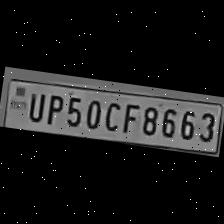0: (81, 96, 104, 131)
3: (194, 107, 218, 143)
5: (60, 92, 86, 129)
6: (174, 106, 198, 142), (157, 104, 179, 140)
8: (137, 102, 162, 138)
C: (100, 97, 124, 133)
F: (118, 100, 141, 136)
P: (42, 90, 66, 128)
U: (24, 88, 46, 124)
